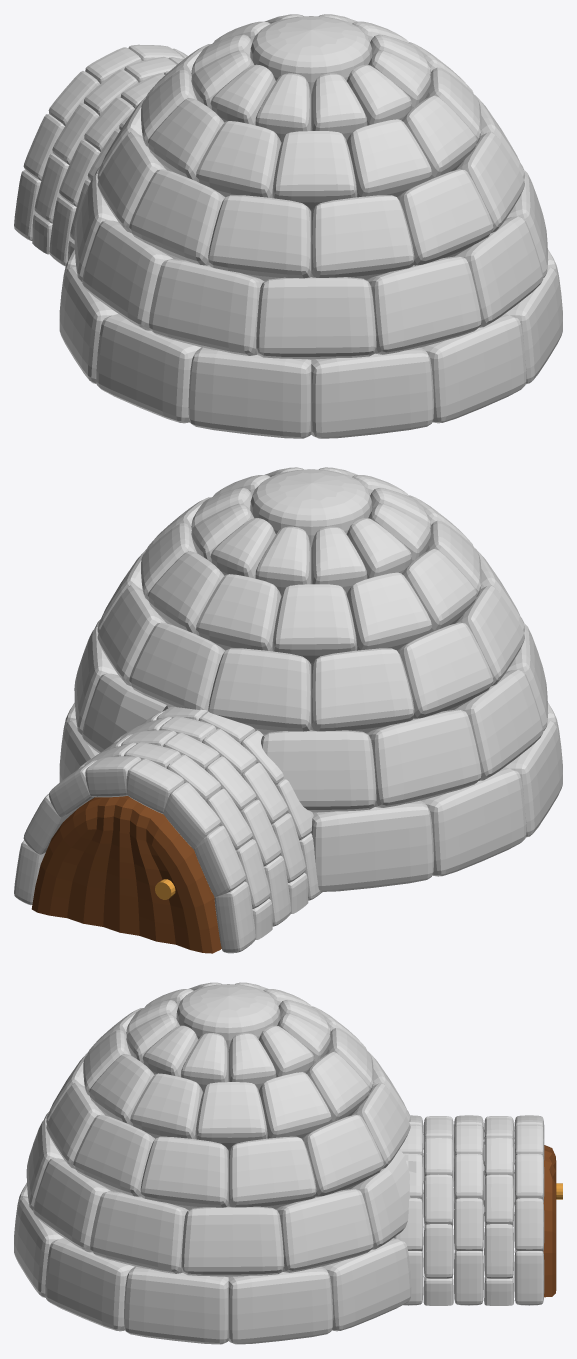
File: iglu_dobleacra.fbx
The picture shows the model from 3 angles, top to bottom: view 1: azimuth 30°, elevation 25°; view 2: azimuth 150°, elevation 25°; view 3: azimuth 270°, elevation 25°; orthographic projection. The views are drawn at different scales.
Parts seen in each view (by area): view 1: Cylinder.003; view 2: Cylinder.003, puerta; view 3: Cylinder.003, puerta.
Boxes of the visible parts, x1,y1,x2,y2 form: Cylinder.003: [14, 14, 562, 438]; Cylinder.003: [14, 467, 562, 953]; puerta: [31, 796, 221, 953]; Cylinder.003: [14, 982, 544, 1344]; puerta: [543, 1145, 562, 1297].
Bounding box in the file's own units: 1822 × 1247 × 2331.
